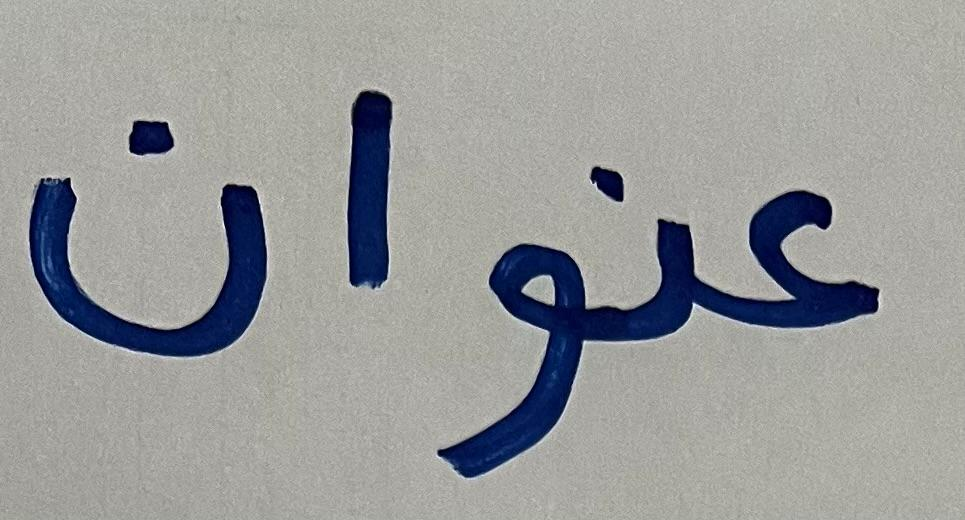ain: (726, 84, 929, 386)
alef: (315, 55, 415, 309)
noon: (17, 24, 301, 398), (586, 128, 710, 411)
waw: (427, 183, 581, 483)
